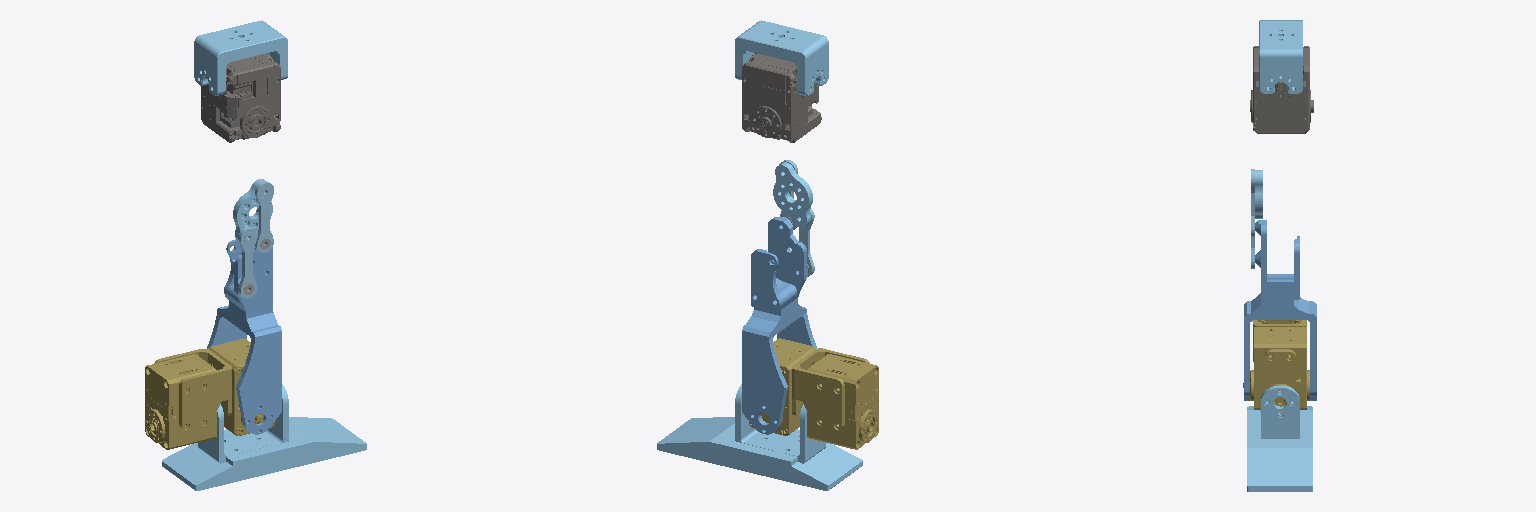
URDF robot description (left_leg_OP3):
<?xml version="1.0" ?><robot name="left_leg_OP3">  
  <link name="hip_yaw_link">    
    <visual>      
      <origin xyz="0 0 0" rpy="0 -0 0"/>      
      <geometry>        
        <mesh filename="package:///meshes/left_hip_yaw_link_visual.stl"/>        
      </geometry>      
      <material name="hip_yaw_link_material">        
        <color rgba="0.61568627450980395466 0.81176470588235294379 0.92941176470588238168 1.0"/>        
      </material>      
    </visual>    
    <collision>      
      <origin xyz="0 0 0" rpy="0 -0 0"/>      
      <geometry>        
        <mesh filename="package:///meshes/left_hip_yaw_link_collision.stl"/>        
      </geometry>      
    </collision>    
    <inertial>      
      <origin xyz="-9.1166978271932556213e-19 -4.9534309264666148417e-19 -0.0098919667346054496876" rpy="0 0 0"/>      
      <mass value="0.018000000000000002109"/>      
      <inertia ixx="2.6483505271519540317e-06" ixy="0" ixz="0" iyy="7.705535799600823457e-06" iyz="0" izz="7.773668280680534143e-06"/>      
    </inertial>    
  </link>  

  <link name="hip_roll_link">    
    <visual>      
      <origin xyz="0 0 0" rpy="0 -0 0"/>      
      <geometry>        
        <mesh filename="package:///meshes/left_hip_roll_link_visual.stl"/>        
      </geometry>      
      <material name="hip_roll_link_material">        
        <color rgba="0.51698661238356047321 0.50347815951093488618 0.49050589017722012741 1.0"/>        
      </material>      
    </visual>    
    <collision>      
      <origin xyz="0 0 0" rpy="0 -0 0"/>      
      <geometry>        
        <mesh filename="package:///meshes/left_hip_roll_link_collision.stl"/>        
      </geometry>      
    </collision>    
    <inertial>      
      <origin xyz="-0.011999849582185761337 -0.00049598090794150976809 -0.018504111838601459278" rpy="0 0 0"/>      
      <mass value="0.11059999999836234164"/>      
      <inertia ixx="2.2818802599018557395e-05" ixy="-4.6520143287126922321e-08" ixz="-4.6888548260570170087e-08" iyy="3.0871632082340091647e-05" iyz="-5.7477343899716856618e-07" izz="3.0871666424470075056e-05"/>      
    </inertial>    
  </link>  

  <link name="left_hip_pitch_link_xm430">    
    <visual>      
      <origin xyz="0 0 0" rpy="0 -0 0"/>      
      <geometry>        
        <mesh filename="package:///meshes/left_hip_pitch_link_xm430_visual.stl"/>        
      </geometry>      
      <material name="left_hip_pitch_link_xm430_material">        
        <color rgba="0.87072221357329560032 0.72641010956094276274 0.24785169615220703498 1.0"/>        
      </material>      
    </visual>    
    <collision>      
      <origin xyz="0 0 0" rpy="0 -0 0"/>      
      <geometry>        
        <mesh filename="package:///meshes/left_hip_pitch_link_xm430_collision.stl"/>        
      </geometry>      
    </collision>    
    <inertial>      
      <origin xyz="-0.00075729214155307862481 -0.050714785675264634213 -0.012656155119959919264" rpy="0 0 0"/>      
      <mass value="0.11480090135030569798"/>      
      <inertia ixx="6.6072773889429766716e-05" ixy="-4.6080149277689952852e-07" ixz="-1.8170739115328836247e-07" iyy="2.3633638685370645326e-05" iyz="1.4125253925344657427e-06" izz="6.2221728804334251023e-05"/>      
    </inertial>    
  </link>  

  <link name="left_calf_link">    
    <visual>      
      <origin xyz="0 0 0" rpy="0 -0 0"/>      
      <geometry>        
        <mesh filename="package:///meshes/left_calf_link_visual.stl"/>        
      </geometry>      
      <material name="left_calf_link_material">        
        <color rgba="0.522707147375079062 0.70740037950664136357 0.87533206831119547697 1.0"/>        
      </material>      
    </visual>    
    <collision>      
      <origin xyz="0 0 0" rpy="0 -0 0"/>      
      <geometry>        
        <mesh filename="package:///meshes/left_calf_link_collision.stl"/>        
      </geometry>      
    </collision>    
    <inertial>      
      <origin xyz="-0.0044344902671585324089 -0.040889388843363815018 -0.0093892669849708655649" rpy="0 0 0"/>      
      <mass value="0.031000000000000006717"/>      
      <inertia ixx="3.2988539450830065111e-05" ixy="1.5571453299274943941e-06" ixz="1.9732683818532281367e-07" iyy="7.7722801345028218802e-06" iyz="-6.5086481256950432738e-07" izz="2.791870718236578021e-05"/>      
    </inertial>    
  </link>  

  <link name="bearing_683">    
    <visual>      
      <origin xyz="0 0 0" rpy="0 -0 0"/>      
      <geometry>        
        <mesh filename="package:///meshes/left_bearing_683_visual.stl"/>        
      </geometry>      
      <material name="bearing_683_material">        
        <color rgba="0.64705882352941179736 0.64705882352941179736 0.64705882352941179736 1.0"/>        
      </material>      
    </visual>    
    <collision>      
      <origin xyz="0 0 0" rpy="0 -0 0"/>      
      <geometry>        
        <mesh filename="package:///meshes/left_bearing_683_collision.stl"/>        
      </geometry>      
    </collision>    
    <inertial>      
      <origin xyz="1.0732094295245277646e-19 -2.4186774283166596225e-19 -0.0015500000000000003792" rpy="0 0 0"/>      
      <mass value="0.00048694686130641793437"/>      
      <inertia ixx="2.1551456503319887385e-09" ixy="-3.2725971581714178112e-27" ixz="-1.6747373956342994567e-37" iyy="2.1551456503319883249e-09" iyz="1.5876787954545183605e-37" izz="3.5303647444715305817e-09"/>      
    </inertial>    
  </link>  

  <joint name="left_knee_front_rev_2" type="revolute">    
    <origin xyz="-0.005740251485476520997 0.013858192987669520901 -0.026199999999999896982" rpy="-1.2748447504621629537e-14 6.585364222471203236e-15 1.5765933876572484351"/>    
    <parent link="left_calf_link"/>    
    <child link="bearing_683"/>    
    <axis xyz="0 0 1"/>    
    <limit effort="1" velocity="20" lower="-6.283185307179586232" upper="6.283185307179586232"/>    
    <joint_properties friction="0.0"/>    
  </joint>  

  <link name="bearing_683_2">    
    <visual>      
      <origin xyz="0 0 0" rpy="0 -0 0"/>      
      <geometry>        
        <mesh filename="package:///meshes/left_bearing_683_2_visual.stl"/>        
      </geometry>      
      <material name="bearing_683_2_material">        
        <color rgba="0.64705882352941179736 0.64705882352941179736 0.64705882352941179736 1.0"/>        
      </material>      
    </visual>    
    <collision>      
      <origin xyz="0 0 0" rpy="0 -0 0"/>      
      <geometry>        
        <mesh filename="package:///meshes/left_bearing_683_2_collision.stl"/>        
      </geometry>      
    </collision>    
    <inertial>      
      <origin xyz="2.7862896558581296954e-17 -2.4186774283158998431e-19 -0.0015500000000000003792" rpy="0 0 0"/>      
      <mass value="0.00048694686130641793437"/>      
      <inertia ixx="2.1551456503319887385e-09" ixy="8.9341281508834064054e-29" ixz="-8.1472341451353506238e-38" iyy="2.1551456503319883249e-09" iyz="-1.9475987103394819512e-38" izz="3.5303647444715305817e-09"/>      
    </inertial>    
  </link>  

  <joint name="left_knee_back_rev_2" type="revolute">    
    <origin xyz="0.005740251485476449006 -0.013858192987669271101 -0.026200000000000112088" rpy="1.9402246842031681928e-15 -5.748163339807720772e-15 1.5736949077299633437"/>    
    <parent link="left_calf_link"/>    
    <child link="bearing_683_2"/>    
    <axis xyz="0 0 1"/>    
    <limit effort="1" velocity="20" lower="-6.283185307179586232" upper="6.283185307179586232"/>    
    <joint_properties friction="0.0"/>    
  </joint>  

  <link name="left_ank_pitch_link">    
    <visual>      
      <origin xyz="0 0 0" rpy="0 -0 0"/>      
      <geometry>        
        <mesh filename="package:///meshes/left_ank_pitch_link_visual.stl"/>        
      </geometry>      
      <material name="left_ank_pitch_link_material">        
        <color rgba="0.70321688500203338723 0.64514870846184457776 0.40484735422826284568 1.0"/>        
      </material>      
    </visual>    
    <collision>      
      <origin xyz="0 0 0" rpy="0 -0 0"/>      
      <geometry>        
        <mesh filename="package:///meshes/left_ank_pitch_link_collision.stl"/>        
      </geometry>      
    </collision>    
    <inertial>      
      <origin xyz="0.017770241891401118706 0.012301334508572169327 0.018813528244421621333" rpy="0 0 0"/>      
      <mass value="0.17676376695067902434"/>      
      <inertia ixx="4.7283316680251474384e-05" ixy="-1.3380598598441336826e-06" ixz="-5.5304058905075135563e-07" iyy="0.00010706456048088975773" iyz="-5.322513783939496246e-08" izz="0.00012185522397136160338"/>      
    </inertial>    
  </link>  

  <link name="ank_roll_link">    
    <visual>      
      <origin xyz="0 0 0" rpy="0 -0 0"/>      
      <geometry>        
        <mesh filename="package:///meshes/left_ank_roll_link_visual.stl"/>        
      </geometry>      
      <material name="ank_roll_link_material">        
        <color rgba="0.61568627450980395466 0.81176470588235294379 0.92941176470588238168 1.0"/>        
      </material>      
    </visual>    
    <collision>      
      <origin xyz="0 0 0" rpy="0 -0 0"/>      
      <geometry>        
        <mesh filename="package:///meshes/left_ank_roll_link_collision.stl"/>        
      </geometry>      
    </collision>    
    <inertial>      
      <origin xyz="-0.027003372529275624508 -2.0047347353366189573e-12 0.033758582145829378607" rpy="0 0 0"/>      
      <mass value="0.042600000000000005917"/>      
      <inertia ixx="3.7273661670605730538e-05" ixy="-5.5183744331684286316e-16" ixz="2.391317175443535698e-06" iyy="3.7580160445153510502e-05" iyz="5.0909541748877960785e-12" izz="1.0089086509198687432e-05"/>      
    </inertial>    
  </link>  

  <joint name="left_ank_roll" type="revolute">    
    <origin xyz="0.022749999999993542749 -2.7755575615628913511e-17 0.019000000000001193018" rpy="-1.5707963267947555597 4.9062454261230355926e-14 1.5707963267948445996"/>    
    <parent link="left_ank_pitch_link"/>    
    <child link="ank_roll_link"/>    
    <axis xyz="0 0 1"/>    
    <limit effort="1" velocity="20" lower="-1.570796326794896558" upper="1.570796326794896558"/>    
    <joint_properties friction="0.0"/>    
  </joint>  

  <joint name="left_ank_pitch" type="revolute">    
    <origin xyz="0.00050000000000019560048 -0.099999999999999755751 -0.029400000000000474365" rpy="-2.2144635451873290719e-15 -2.41565495633570403e-15 -1.0183166616970813795e-16"/>    
    <parent link="left_calf_link"/>    
    <child link="left_ank_pitch_link"/>    
    <axis xyz="0 0 1"/>    
    <limit effort="1" velocity="20" lower="-1.7453292519943295336" upper="0.785398163397448279"/>    
    <joint_properties friction="0.0"/>    
  </joint>  

  <joint name="left_knee" type="revolute">    
    <origin xyz="1.0997497220187682467e-16 -0.096000000000000001998 -0.0092000000000001334183" rpy="-1.5577804759837020109e-15 2.5549378730173058399e-15 -2.220446049085581914e-16"/>    
    <parent link="left_hip_pitch_link_xm430"/>    
    <child link="left_calf_link"/>    
    <axis xyz="0 0 1"/>    
    <limit effort="1" velocity="20" lower="0" upper="2.0943951023931952626"/>    
    <joint_properties friction="0.0"/>    
  </joint>  

  <link name="xm430_plate">    
    <visual>      
      <origin xyz="0 0 0" rpy="0 -0 0"/>      
      <geometry>        
        <mesh filename="package:///meshes/left_xm430_plate_visual.stl"/>        
      </geometry>      
      <material name="xm430_plate_material">        
        <color rgba="0.61568627450980395466 0.81176470588235294379 0.92941176470588227065 1.0"/>        
      </material>      
    </visual>    
    <collision>      
      <origin xyz="0 0 0" rpy="0 -0 0"/>      
      <geometry>        
        <mesh filename="package:///meshes/left_xm430_plate_collision.stl"/>        
      </geometry>      
    </collision>    
    <inertial>      
      <origin xyz="1.7629125839115483107e-17 2.1100989846775407085e-18 -0.0024039046431217955119" rpy="0 0 0"/>      
      <mass value="0.0027000000000000001429"/>      
      <inertia ixx="1.293311664536341083e-07" ixy="-6.8936588702566440413e-08" ixz="-3.0519594784082009736e-38" iyy="2.6720434385876688324e-07" iyz="1.9442461584473493225e-35" izz="3.8533537562751439267e-07"/>      
    </inertial>    
  </link>  

  <link name="knee_rod">    
    <visual>      
      <origin xyz="0 0 0" rpy="0 -0 0"/>      
      <geometry>        
        <mesh filename="package:///meshes/left_knee_rod_visual.stl"/>        
      </geometry>      
      <material name="knee_rod_material">        
        <color rgba="0.62051618944235198416 0.78640765248647581664 0.88594253031295022716 1.0"/>        
      </material>      
    </visual>    
    <collision>      
      <origin xyz="0 0 0" rpy="0 -0 0"/>      
      <geometry>        
        <mesh filename="package:///meshes/left_knee_rod_collision.stl"/>        
      </geometry>      
    </collision>    
    <inertial>      
      <origin xyz="0.014594546691134795136 -4.2302323076732964836e-05 -0.0015996227373186084914" rpy="0 0 0"/>      
      <mass value="0.0031629468613064179276"/>      
      <inertia ixx="2.589615283858571057e-08" ixy="3.5533843517354258843e-10" ixz="4.1682972814336605975e-10" iyy="6.0153250027084177925e-07" iyz="-1.208181810277386539e-12" izz="6.2266858883153443109e-07"/>      
    </inertial>    
  </link>  

  <joint name="left_knee_front_rev_1" type="revolute">    
    <origin xyz="0.013858192987669368246 0.0057402514854765418137 -0.0050000000000000564826" rpy="-6.2367769586331329212e-15 -1.8316457409680757369e-14 -3.1357955927274292485"/>    
    <parent link="xm430_plate"/>    
    <child link="knee_rod"/>    
    <axis xyz="0 0 1"/>    
    <limit effort="1" velocity="20" lower="-6.283185307179586232" upper="6.283185307179586232"/>    
    <joint_properties friction="0.0"/>    
  </joint>  

  <link name="knee_rod_2">    
    <visual>      
      <origin xyz="0 0 0" rpy="0 -0 0"/>      
      <geometry>        
        <mesh filename="package:///meshes/left_knee_rod_2_visual.stl"/>        
      </geometry>      
      <material name="knee_rod_2_material">        
        <color rgba="0.62051618944235198416 0.78640765248647581664 0.88594253031295022716 1.0"/>        
      </material>      
    </visual>    
    <collision>      
      <origin xyz="0 0 0" rpy="0 -0 0"/>      
      <geometry>        
        <mesh filename="package:///meshes/left_knee_rod_2_collision.stl"/>        
      </geometry>      
    </collision>    
    <inertial>      
      <origin xyz="0.01459454669301390832 4.2301026627572089112e-05 -0.0015996227373184903134" rpy="0 0 0"/>      
      <mass value="0.0031629468613064179276"/>      
      <inertia ixx="2.5896152775456338394e-08" ixy="-3.5532754507461864517e-10" ixz="4.1682972818927189541e-10" iyy="6.0153250030241556763e-07" iyz="1.2081447910373785942e-12" izz="6.2266858879995450172e-07"/>      
    </inertial>    
  </link>  

  <joint name="left_knee_back_rev_1" type="revolute">    
    <origin xyz="-0.013858192987669409879 -0.0057402514854765140581 -0.0049999999999999281131" rpy="-2.0394947727209463938e-14 -6.1083485049521676372e-15 -3.138694072654714784"/>    
    <parent link="xm430_plate"/>    
    <child link="knee_rod_2"/>    
    <axis xyz="0 0 1"/>    
    <limit effort="1" velocity="20" lower="-6.283185307179586232" upper="6.283185307179586232"/>    
    <joint_properties friction="0.0"/>    
  </joint>  

  <joint name="left_knee_act" type="revolute">    
    <origin xyz="-0.00014999999999984123256 -0.061500000000000124012 -0.030400000000000204636" rpy="-1.8071295333965976967e-14 -1.0358568150577143411e-14 1.5707963267948834574"/>    
    <parent link="left_hip_pitch_link_xm430"/>    
    <child link="xm430_plate"/>    
    <axis xyz="0 0 1"/>    
    <limit effort="1" velocity="20" lower="0" upper="2.0943951023931952626"/>    
    <joint_properties friction="0.0"/>    
  </joint>  

  <joint name="left_hip_pitch" type="revolute">    
    <origin xyz="-0.024000000716158018804 -0.019000000152440198881 -0.019000000152459138592" rpy="1.5707963267953610753 1.5707963267940439067 0"/>    
    <parent link="hip_roll_link"/>    
    <child link="left_hip_pitch_link_xm430"/>    
    <axis xyz="0 0 1"/>    
    <limit effort="1" velocity="20" lower="-1.570796326794896558" upper="1.570796326794896558"/>    
    <joint_properties friction="0.0"/>    
  </joint>  

  <joint name="left_hip_roll" type="revolute">    
    <origin xyz="0.018999999999999999528 -3.3408590380431072578e-18 -0.026000000000000002276" rpy="-3.141592653589793116 -1.5707963267948936714 0"/>    
    <parent link="hip_yaw_link"/>    
    <child link="hip_roll_link"/>    
    <axis xyz="0 0 1"/>    
    <limit effort="1" velocity="20" lower="-0.785398163397448279" upper="0.785398163397448279"/>    
    <joint_properties friction="0.0"/>    
  </joint>  


</robot>

--- Facts derived from the render (not from the file) ---
Views: 3 orthographic renders of the robot side by side, from view 1: azimuth 30°, elevation 25°; view 2: azimuth 150°, elevation 25°; view 3: azimuth 270°, elevation 25°.
Model left_leg_OP3 with 11 links and 10 joints (10 revolute), rooted at hip_yaw_link, posed every joint at zero.
Links seen in each view (by area): view 1: left_ank_pitch_link, ank_roll_link, left_calf_link, hip_roll_link, hip_yaw_link, xm430_plate, knee_rod_2, knee_rod; view 2: left_calf_link, left_ank_pitch_link, ank_roll_link, hip_roll_link, hip_yaw_link, xm430_plate; view 3: ank_roll_link, left_ank_pitch_link, left_calf_link, hip_roll_link, hip_yaw_link.
Boxes of the visible links, <box> form: left_ank_pitch_link: <box>145,338,274,449</box>; ank_roll_link: <box>162,384,366,490</box>; left_calf_link: <box>207,232,281,434</box>; hip_roll_link: <box>201,53,280,142</box>; hip_yaw_link: <box>194,20,287,95</box>; xm430_plate: <box>233,179,272,240</box>; knee_rod_2: <box>238,227,257,298</box>; knee_rod: <box>255,181,273,252</box>; left_calf_link: <box>742,217,816,434</box>; left_ank_pitch_link: <box>749,338,878,449</box>; ank_roll_link: <box>657,384,862,490</box>; hip_roll_link: <box>742,53,821,142</box>; hip_yaw_link: <box>735,20,828,95</box>; xm430_plate: <box>773,162,812,227</box>; ank_roll_link: <box>1247,386,1312,491</box>; left_ank_pitch_link: <box>1243,297,1309,413</box>; left_calf_link: <box>1244,220,1316,400</box>; hip_roll_link: <box>1250,46,1313,133</box>; hip_yaw_link: <box>1259,20,1302,93</box>.
Size in the robot's own frame: 0.138 by 0.0464 by 0.285 metres.
10 mesh visuals loaded from 11 distinct referenced files (10 binary STL); not drawn: 1 (reference not matched to a file when rendering).
